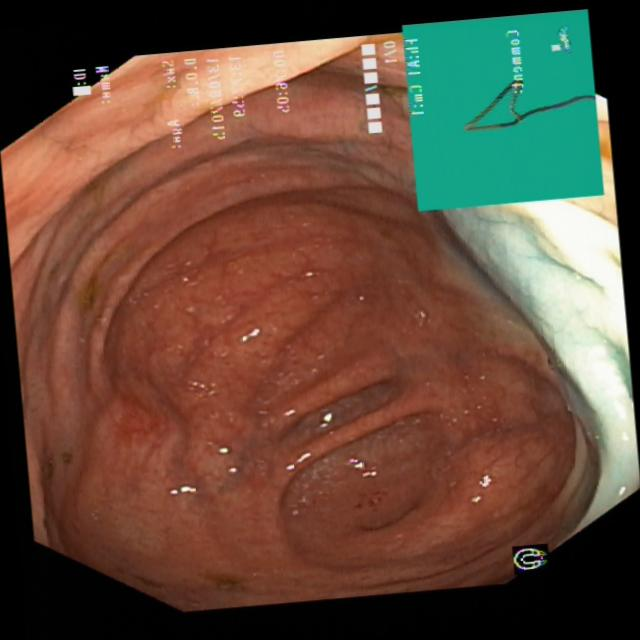normal-cecum: (26, 439, 90, 509), (184, 565, 277, 605), (72, 268, 126, 324)
